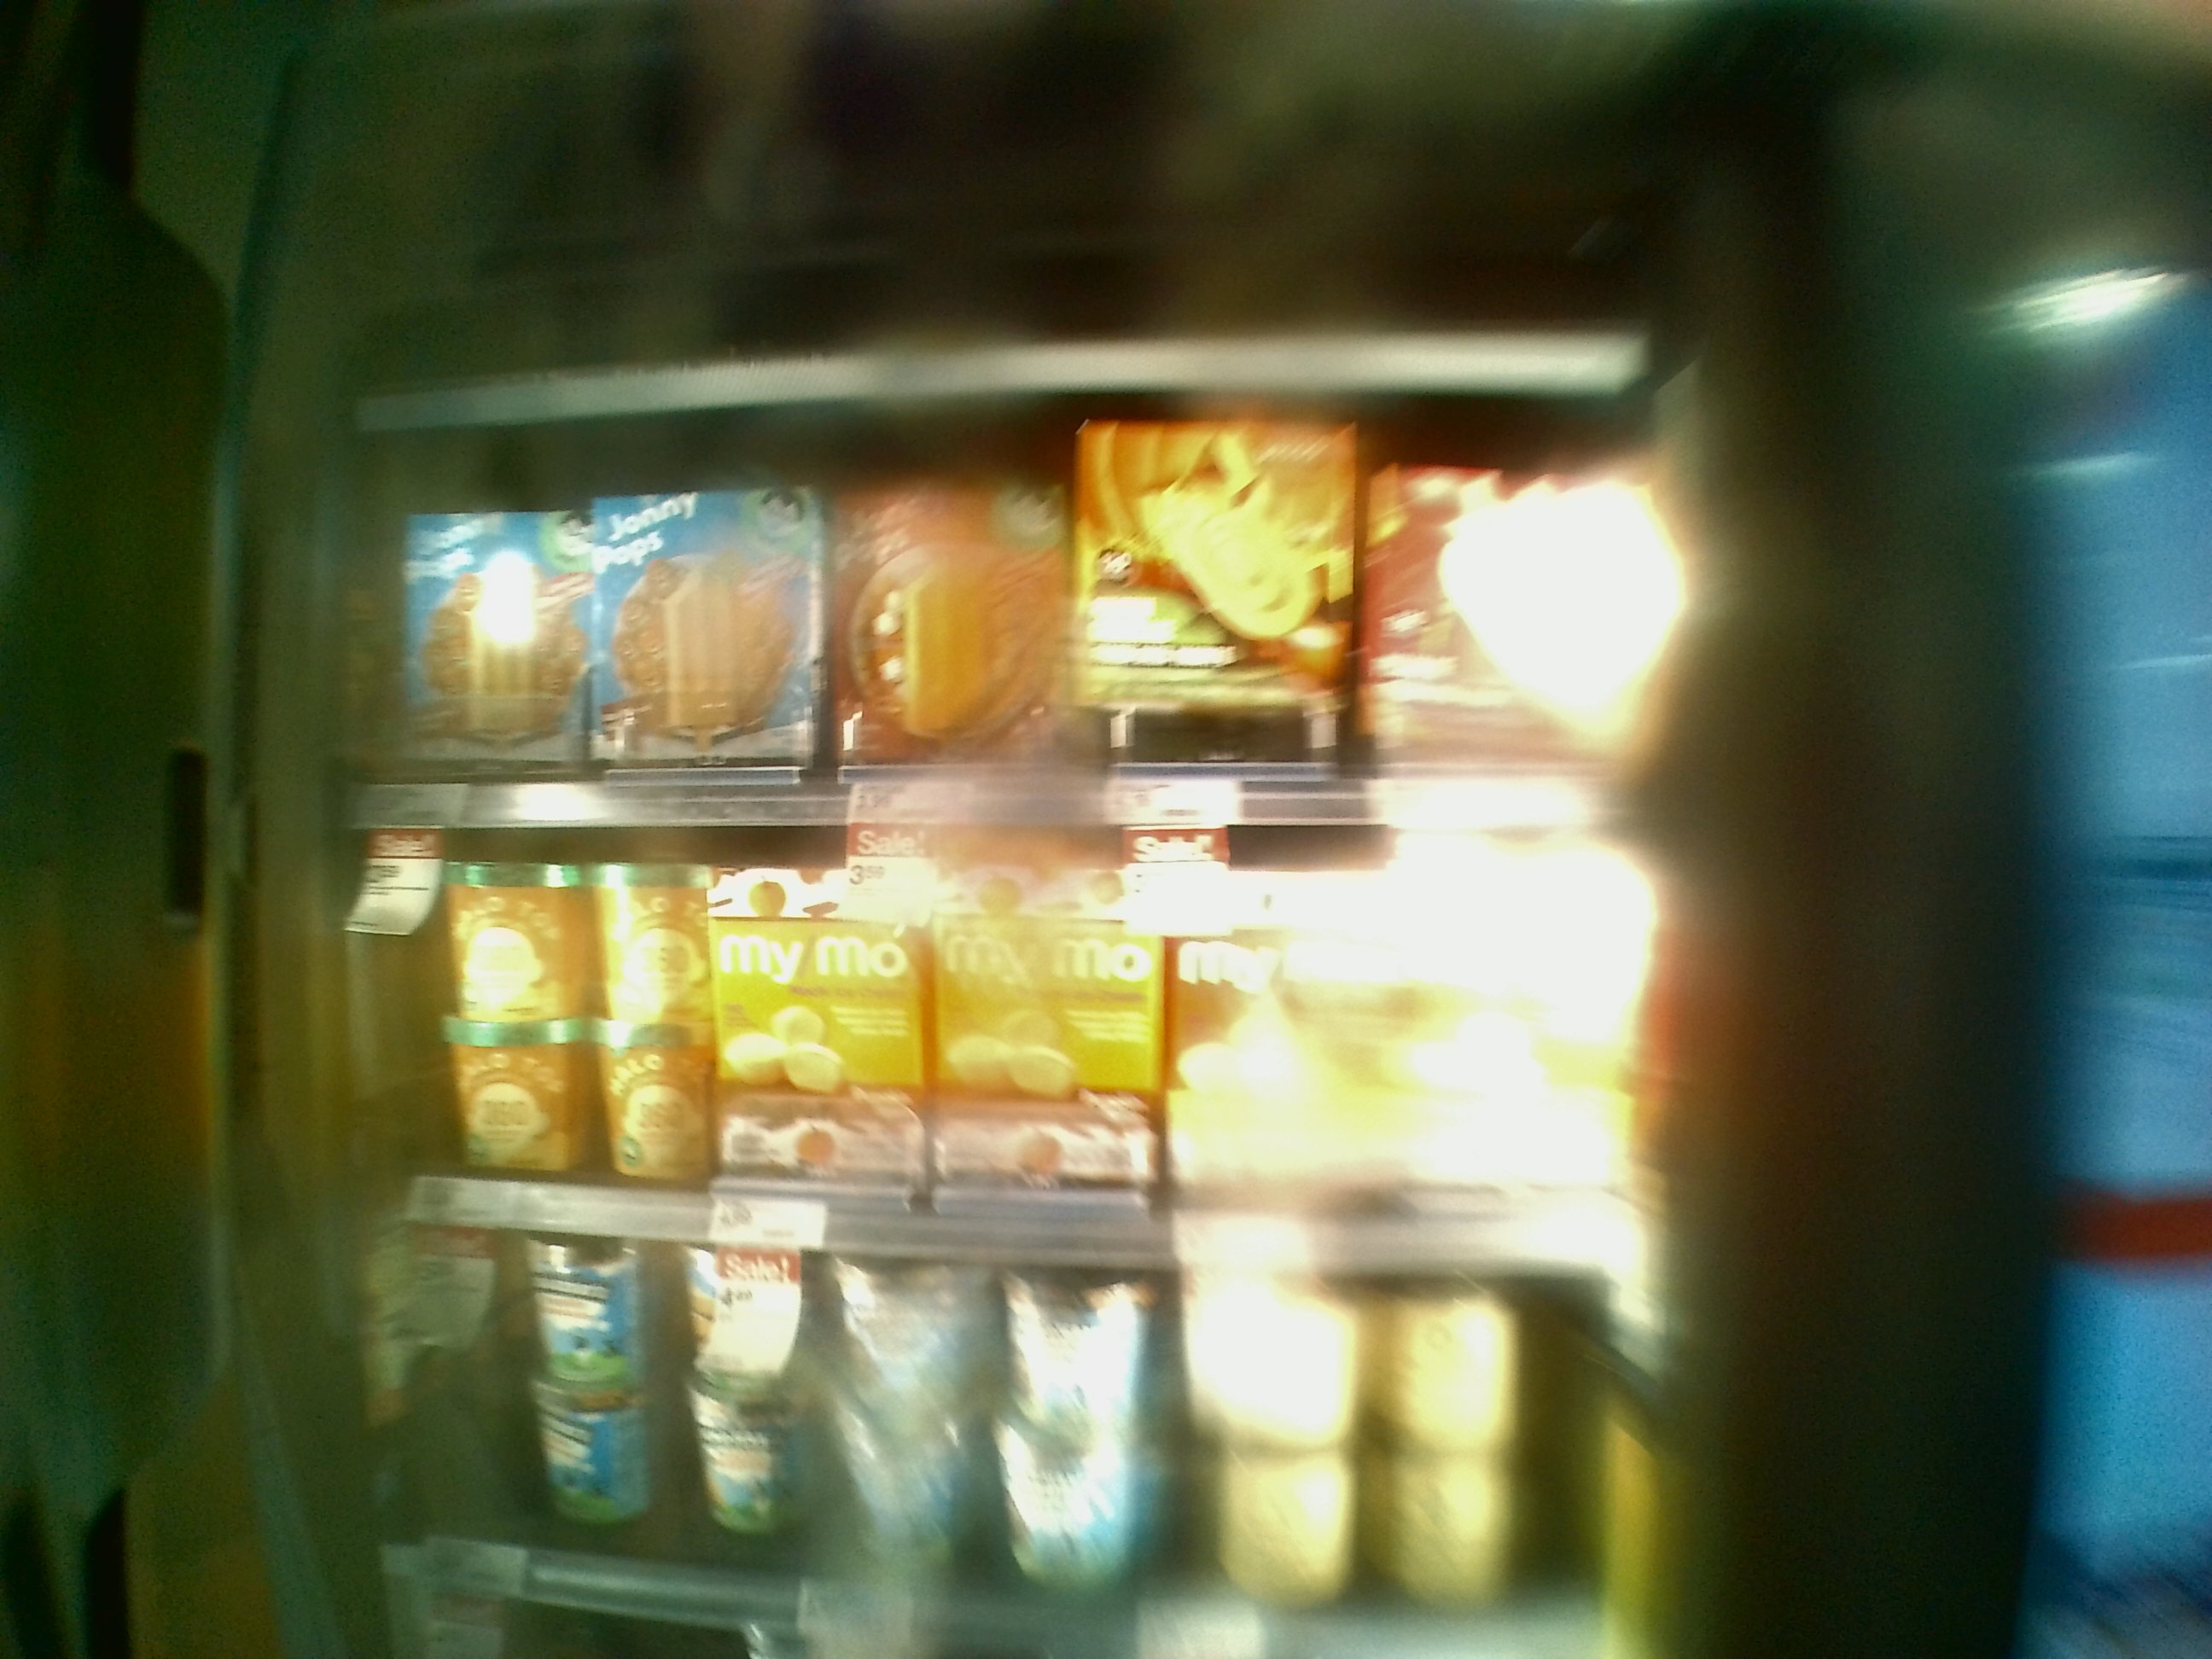shelf: (322, 816, 1679, 1270), (340, 380, 1669, 826)
